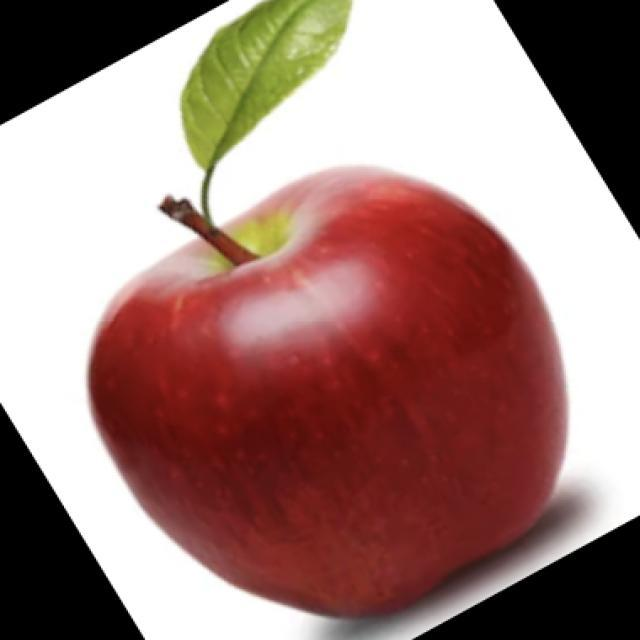Fresh Apple: (80, 163, 570, 615)
